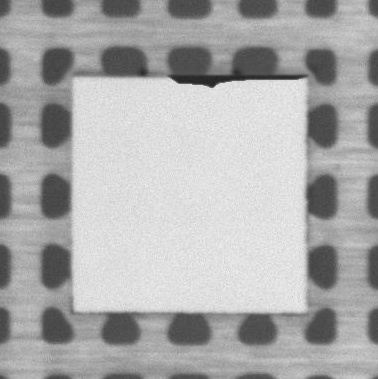DIE_BROKEN: (172, 69, 311, 90)
